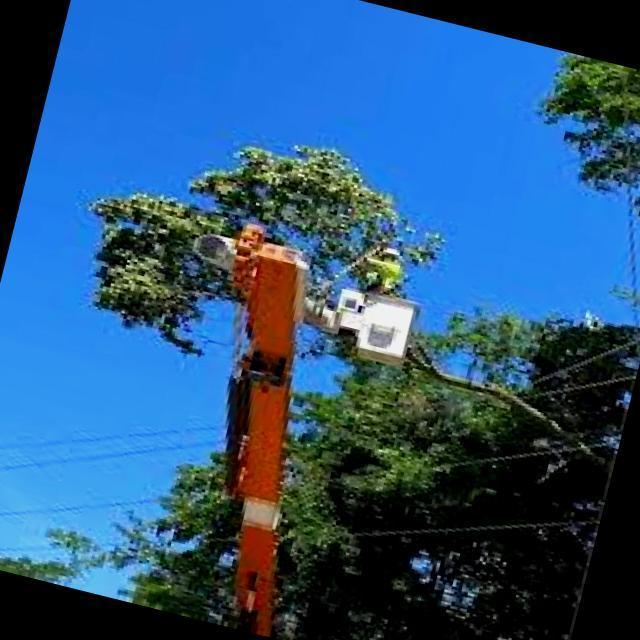critical vegetation: (49, 83, 472, 406)
